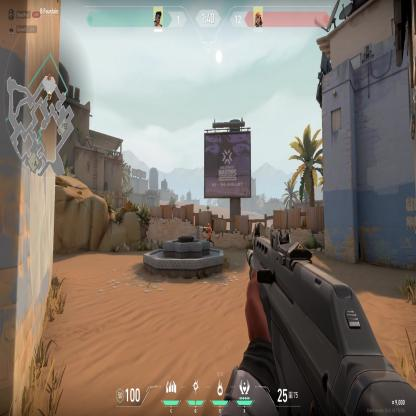enemy: (204, 222, 212, 241)
